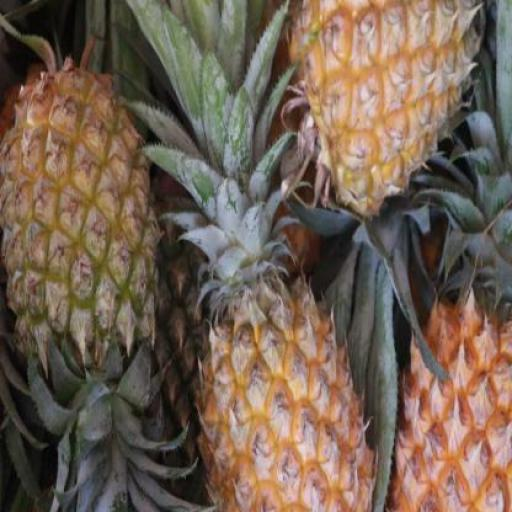------------------------------: (0, 62, 156, 356)
Pineapple - v8 v1: (188, 272, 378, 511), (286, 0, 483, 218), (384, 274, 512, 511)
